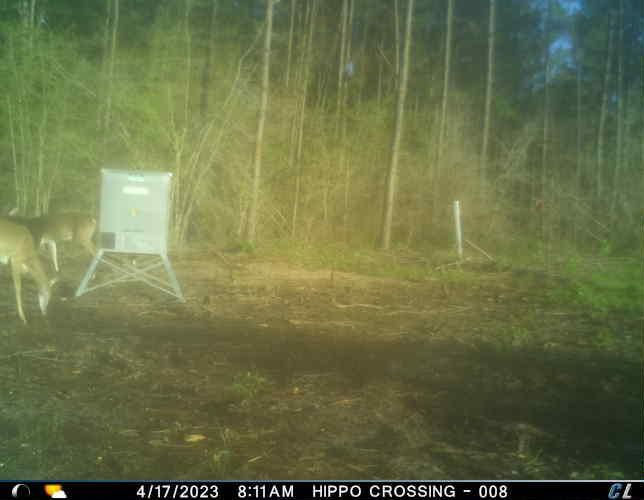Deer: (0, 218, 64, 329), (0, 206, 99, 272)
